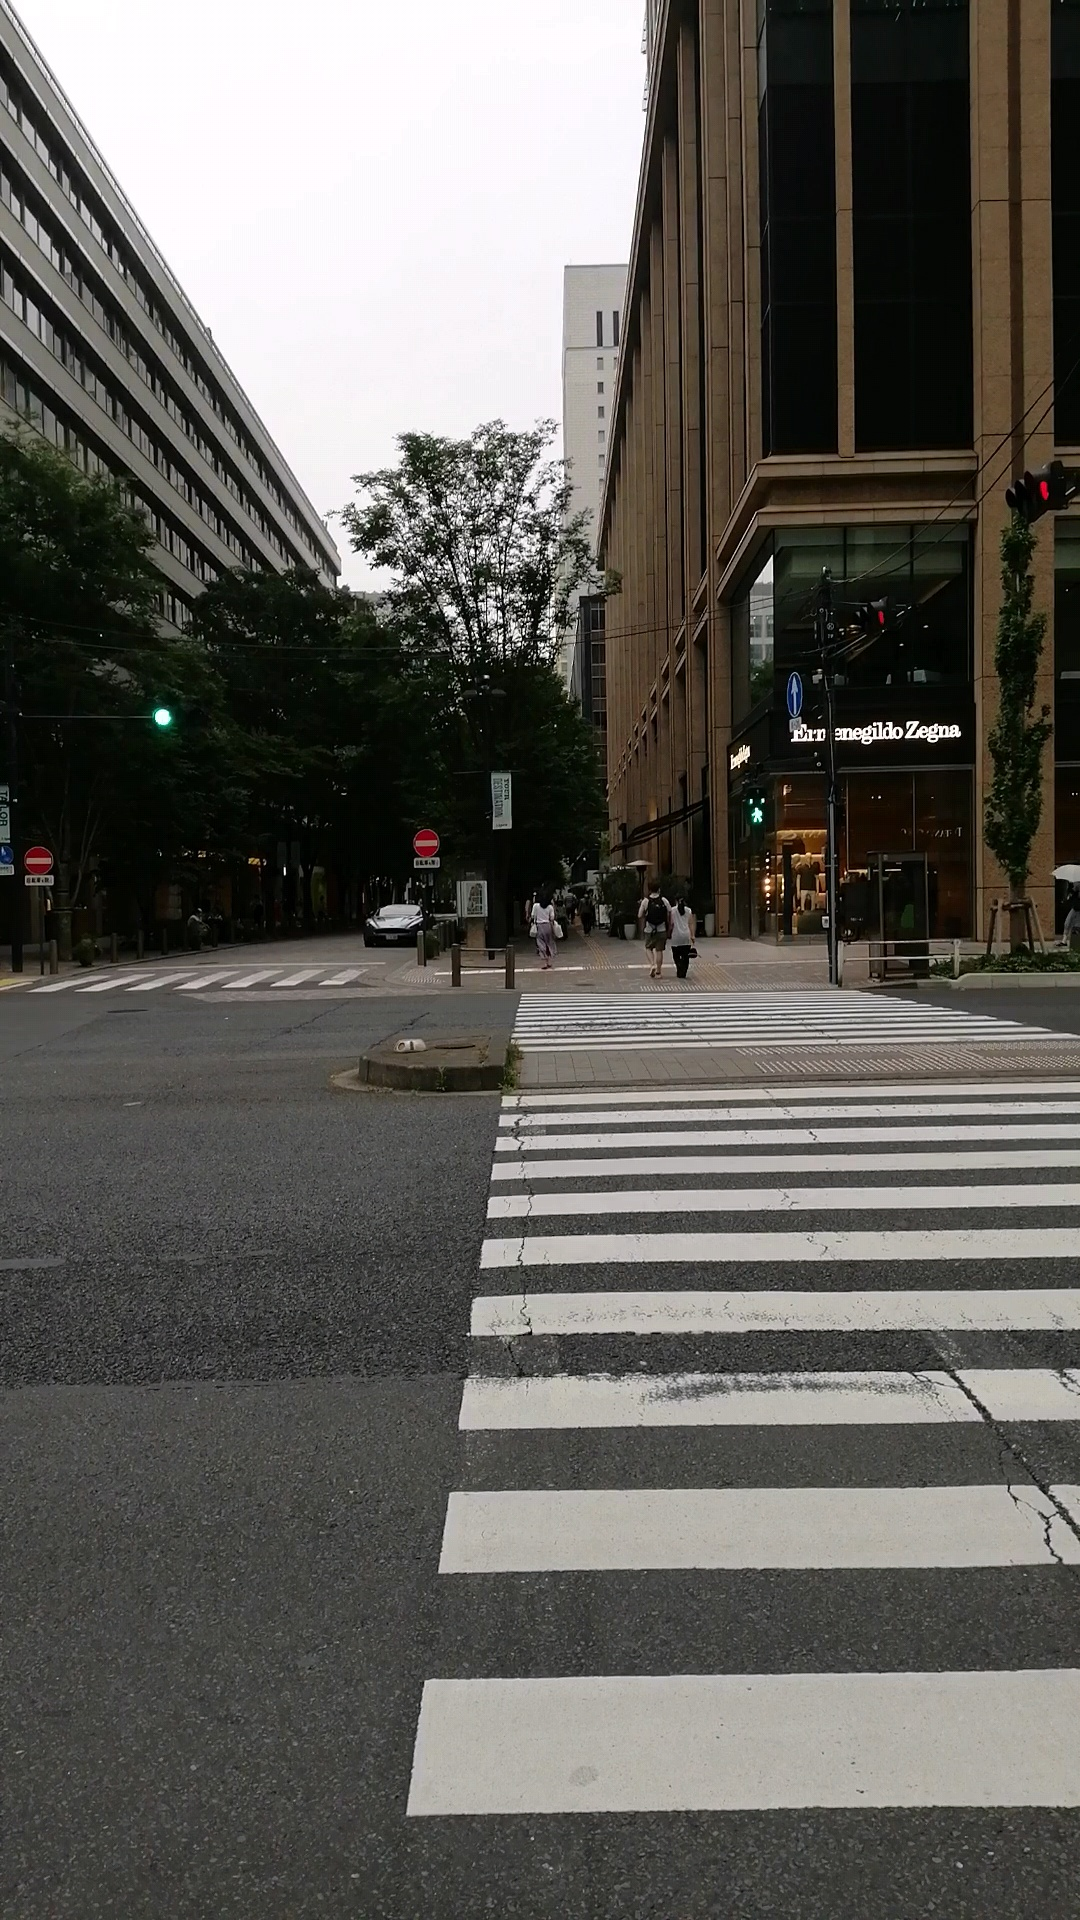green: (741, 781, 771, 831)
